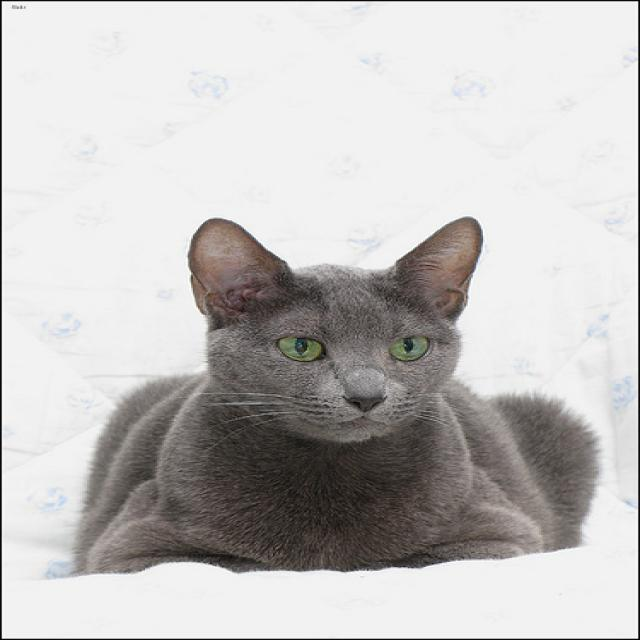Russian_Blue: (174, 199, 483, 449)
